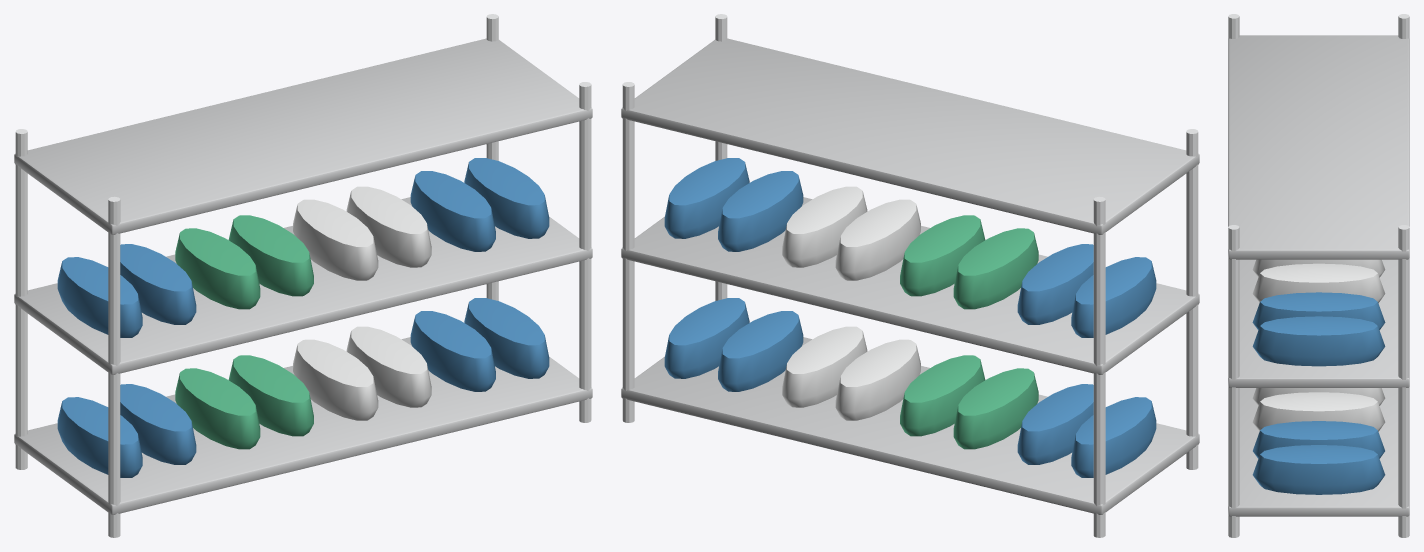
File: TheatreClogsRack.fbx
3 renders of one model, left to right at view 1: azimuth 30°, elevation 25°; view 2: azimuth 150°, elevation 25°; view 3: azimuth 270°, elevation 25°, orthographic. The views are drawn at different scales.
Visible parts, largest first — view 1: TheatreClogsRack_Mesh; view 2: TheatreClogsRack_Mesh; view 3: TheatreClogsRack_Mesh.
Boxes of the visible parts, x1,y1,x2,y2 form: TheatreClogsRack_Mesh: (14, 14, 592, 537); TheatreClogsRack_Mesh: (621, 14, 1199, 537); TheatreClogsRack_Mesh: (1228, 14, 1409, 537).
Size of the model in its own units: 0.9 by 0.6 by 0.32.
